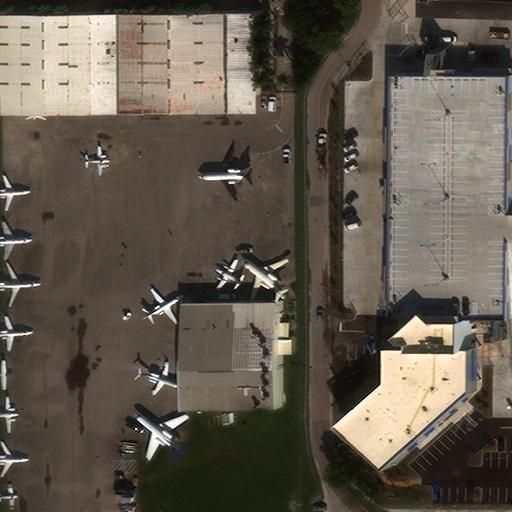Medium Civil Transport: (197, 146, 251, 201), (134, 412, 185, 457), (243, 258, 287, 301), (0, 261, 40, 307), (143, 285, 184, 323)
Small Civil Transport: (137, 363, 179, 395), (0, 220, 32, 260), (0, 315, 33, 351), (0, 174, 31, 211), (0, 440, 29, 478), (214, 258, 242, 288), (84, 145, 110, 176), (0, 396, 19, 433), (0, 483, 18, 509), (0, 359, 13, 390)
